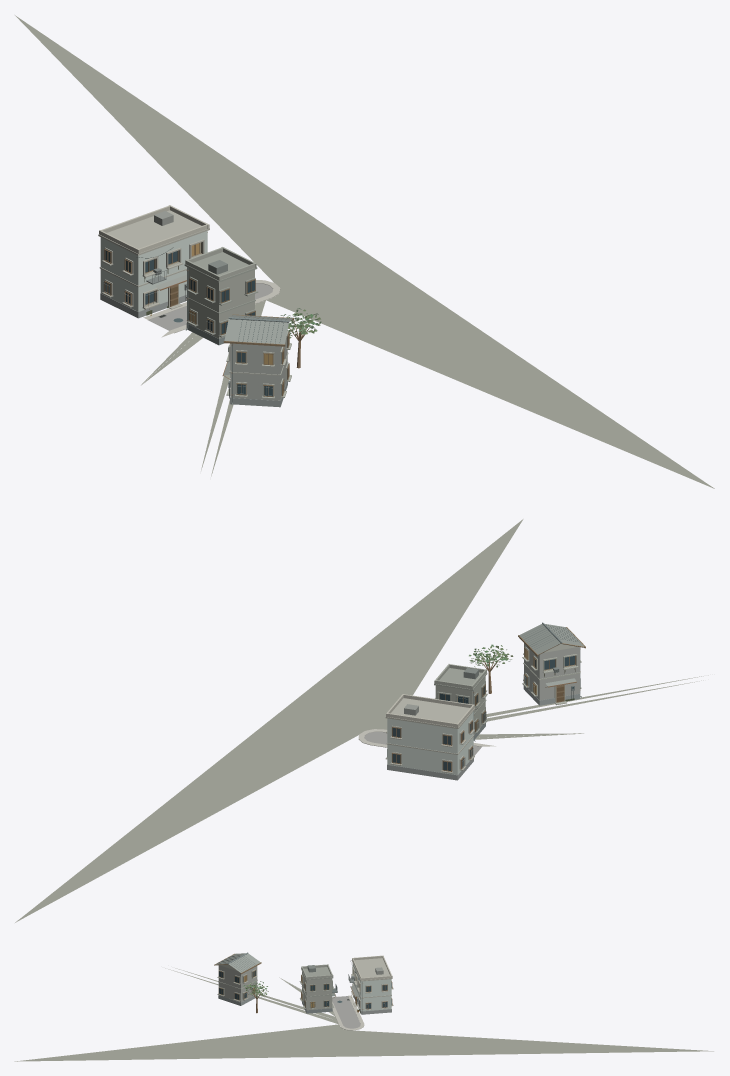
The model's file is street_9_6.glb.
The picture shows the model from 3 angles, top to bottom: view 1: azimuth 30°, elevation 25°; view 2: azimuth 150°, elevation 25°; view 3: azimuth 270°, elevation 25°; orthographic projection. The views are drawn at different scales.
Parts seen in each view (by area): view 1: ground.013, trim.038, plaster.038, mint_plaster.003, roof_metal.038, wood.038, concrete.056, glass.038, graybrick.037, metal.038; view 2: ground.013, trim.038, mint_plaster.003, plaster.038, concrete.056, roof_metal.038, wood.038, metal.038, glass.038, graybrick.037; view 3: ground.013, trim.038, plaster.038, mint_plaster.003, concrete.056, roof_metal.038, wood.038, road.044, graybrick.037, glass.038, metal.038, paving.034 (+1 smaller).
Part boxes in pixels (left/top/right/bottom): ground.013: left=15, top=15, right=714, bottom=488; trim.038: left=98, top=210, right=291, bottom=398; plaster.038: left=99, top=205, right=256, bottom=338; mint_plaster.003: left=100, top=231, right=207, bottom=311; roof_metal.038: left=154, top=211, right=292, bottom=375; wood.038: left=104, top=242, right=309, bottom=397; concrete.056: left=230, top=342, right=287, bottom=400; glass.038: left=105, top=250, right=288, bottom=396; graybrick.037: left=100, top=293, right=287, bottom=407; metal.038: left=103, top=267, right=288, bottom=404; ground.013: left=15, top=519, right=708, bottom=922; trim.038: left=385, top=646, right=581, bottom=773; mint_plaster.003: left=387, top=711, right=473, bottom=775; plaster.038: left=386, top=644, right=577, bottom=734; concrete.056: left=524, top=643, right=579, bottom=700; roof_metal.038: left=404, top=623, right=584, bottom=715; wood.038: left=392, top=627, right=585, bottom=771; metal.038: left=387, top=625, right=581, bottom=768; glass.038: left=392, top=656, right=574, bottom=770; graybrick.037: left=387, top=686, right=580, bottom=780; ground.013: left=14, top=968, right=713, bottom=1061; trim.038: left=217, top=958, right=393, bottom=1010; plaster.038: left=219, top=955, right=392, bottom=1010; mint_plaster.003: left=352, top=963, right=391, bottom=1011; concrete.056: left=218, top=965, right=257, bottom=1002; roof_metal.038: left=215, top=953, right=383, bottom=996; wood.038: left=214, top=953, right=392, bottom=1013; road.044: left=332, top=996, right=360, bottom=1028; graybrick.037: left=218, top=994, right=391, bottom=1014; glass.038: left=219, top=971, right=391, bottom=1008; metal.038: left=217, top=955, right=387, bottom=1014; paving.034: left=332, top=995, right=364, bottom=1030.
Bounding box in the file's own units: 39.7 × 7.74 × 123.
